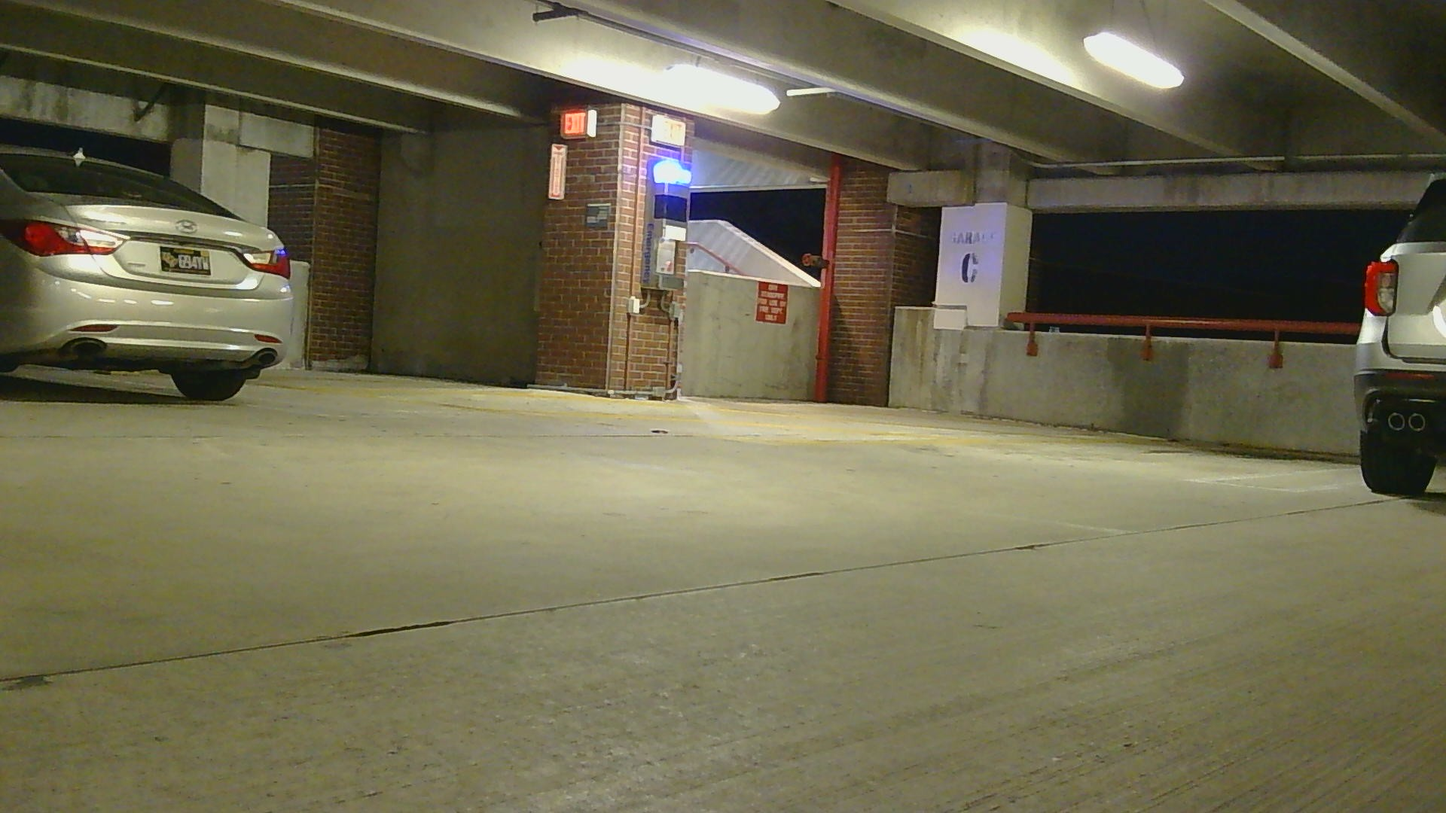empty_spot: (765, 380, 1351, 495)
occupied_spot: (0, 152, 309, 409), (1356, 155, 1445, 489)
